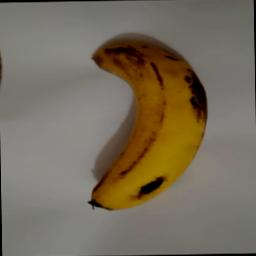Banana Unripe: (86, 38, 211, 211)
